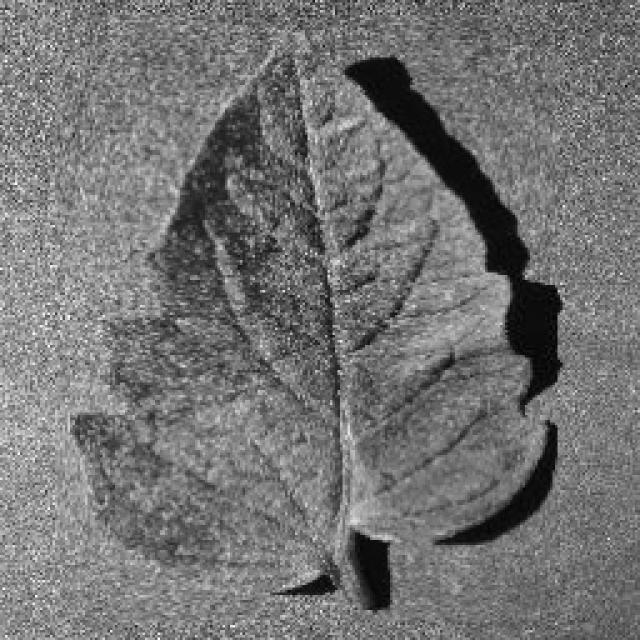Healthy: (55, 15, 557, 623)
